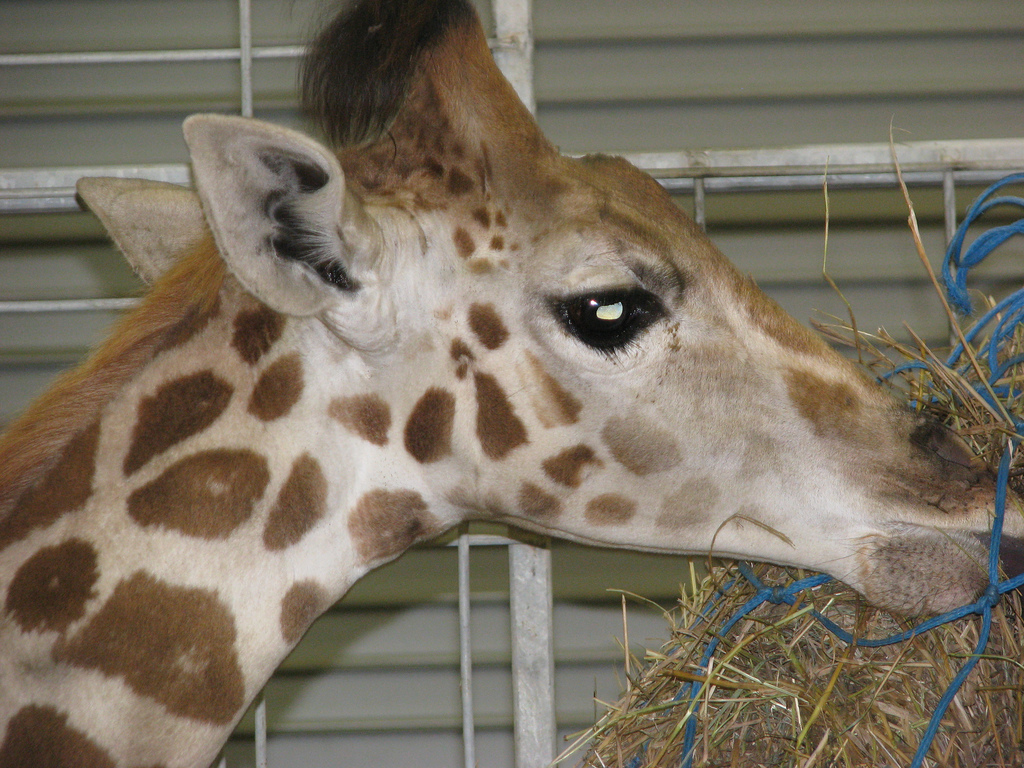giraffe: (76, 29, 964, 698)
